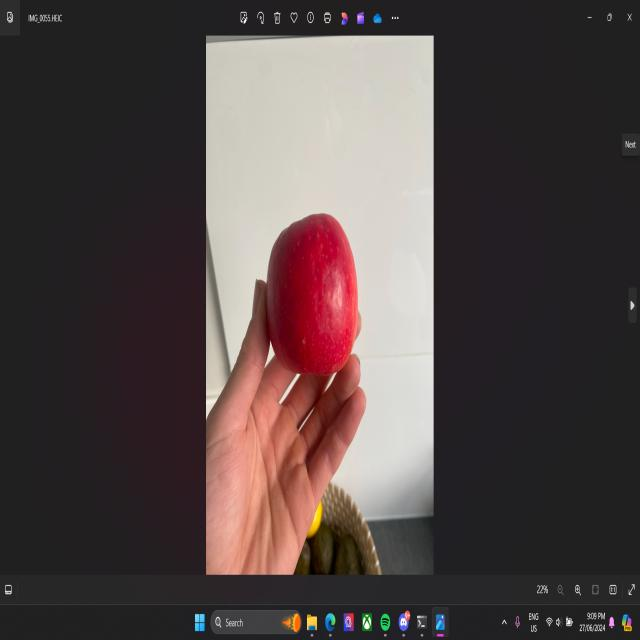Apple: (266, 213, 358, 374)
